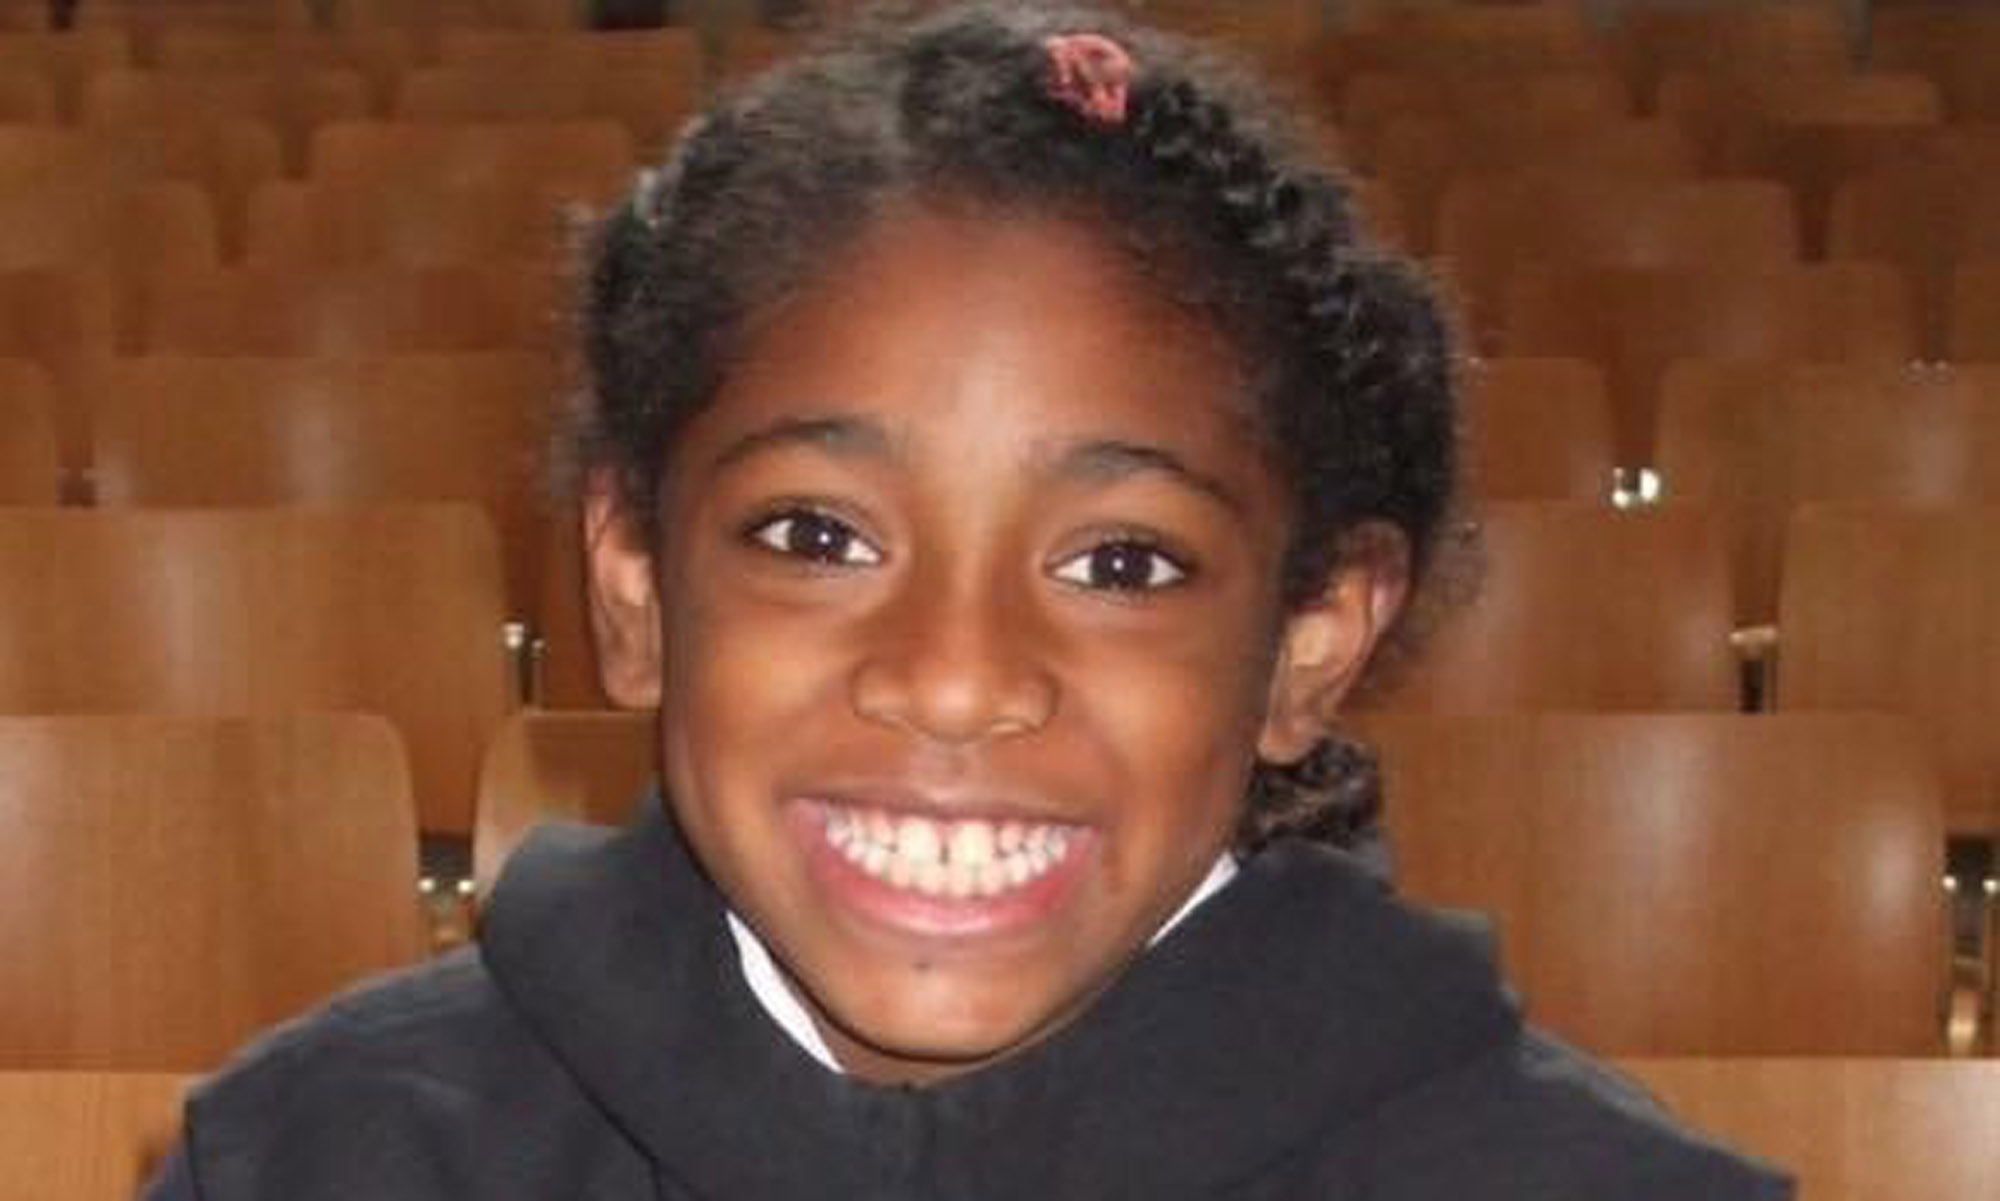person: (148, 4, 1817, 1201)
